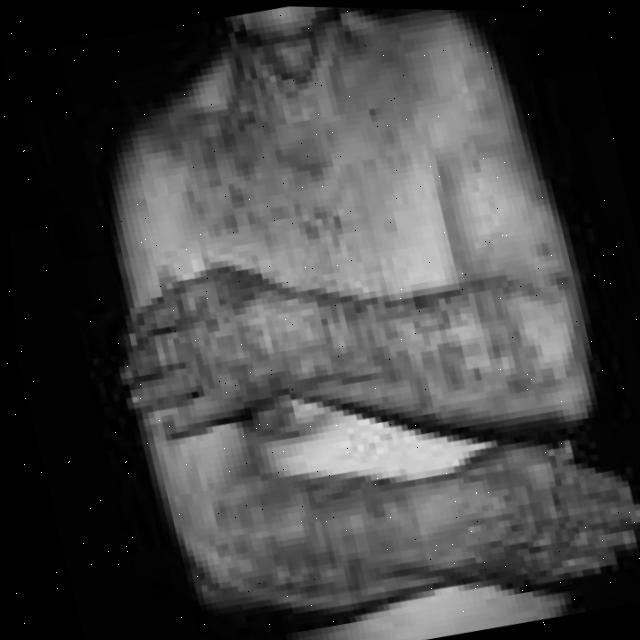Melasma: (154, 259, 527, 439), (208, 459, 598, 624), (152, 66, 332, 269)
